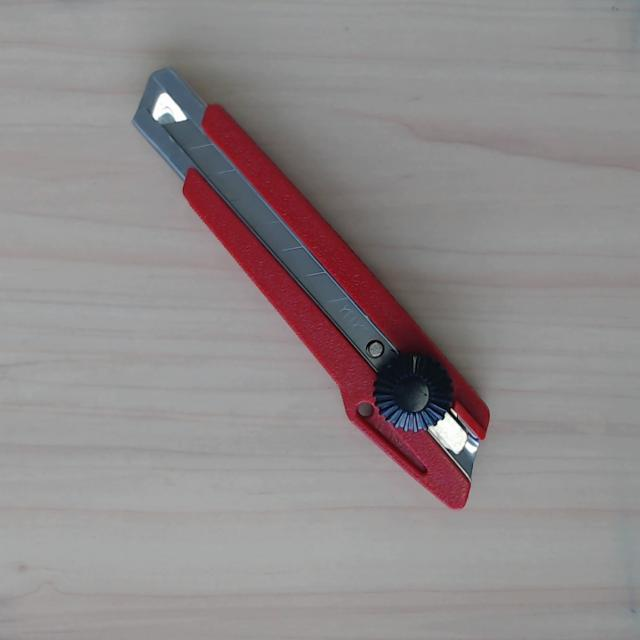Cutter-Besar: (95, 50, 526, 525)
